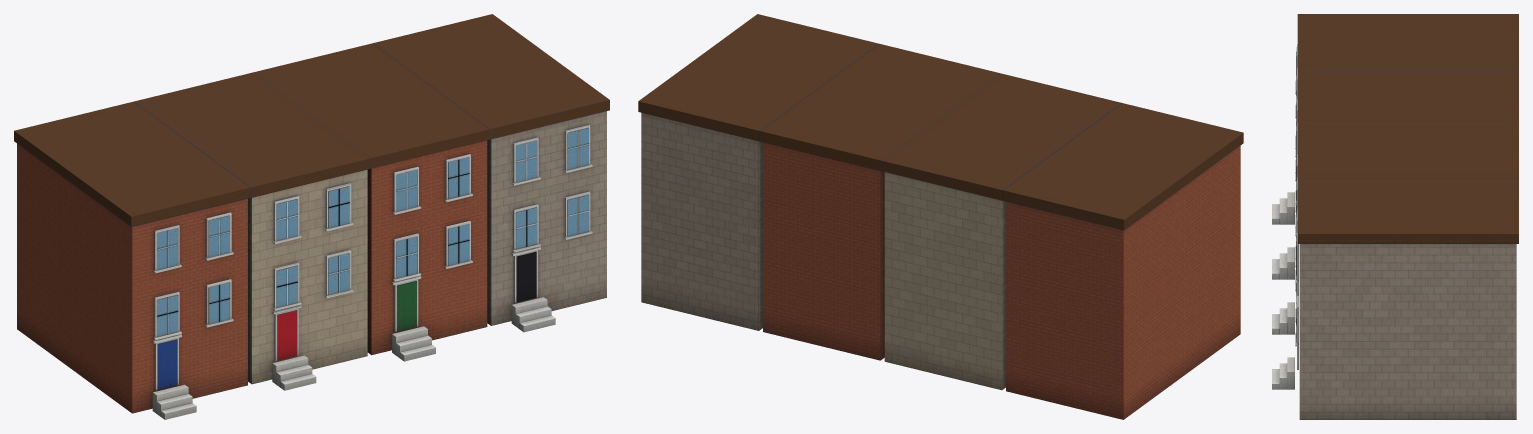
File: casas_formstone.glb
The picture shows the model from 3 angles, left to right: view 1: azimuth 30°, elevation 25°; view 2: azimuth 150°, elevation 25°; view 3: azimuth 270°, elevation 25°; orthographic projection. The views are drawn at different scales.
Visible parts, largest first — view 1: casas_formstone; view 2: casas_formstone; view 3: casas_formstone.
Part boxes in pixels (left/top/right/bottom): casas_formstone: left=14, top=14, right=609, bottom=419; casas_formstone: left=638, top=14, right=1243, bottom=419; casas_formstone: left=1272, top=14, right=1518, bottom=419.
Size of the model in its own units: 24 by 9.5 by 11.38.
1 material, 1 textured.
